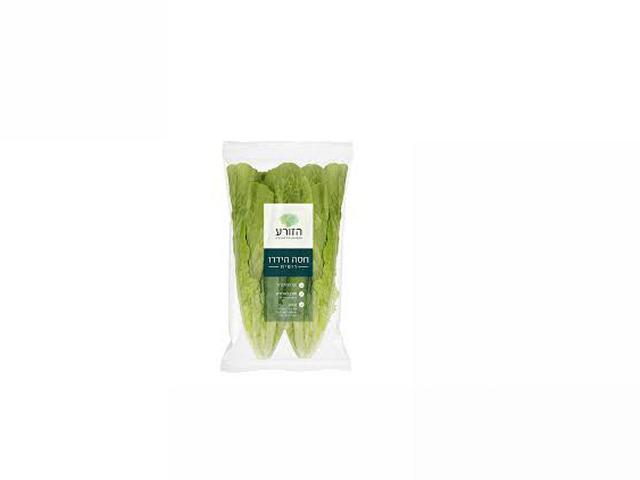lettuce: (305, 156, 425, 354)
